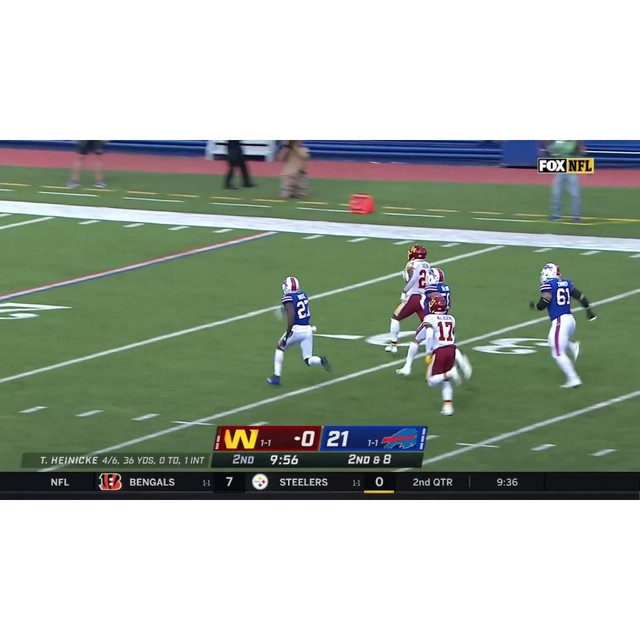american-football-player: (528, 262, 599, 387), (266, 278, 332, 384), (418, 291, 470, 418), (395, 270, 450, 381), (385, 245, 440, 352)
